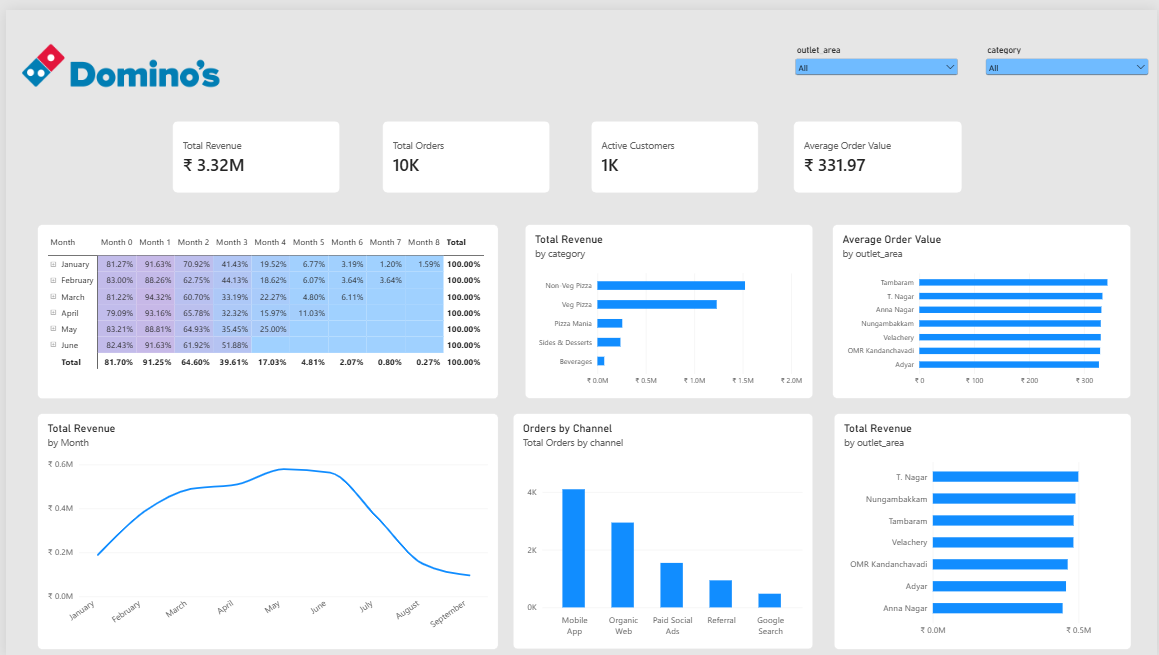

This screenshot's page, from the dashboard's own definition file:
{"tool":"powerbi","page":{"name":"Page 1","canvas":[1920,1080],"ordinal":0},"visuals":[{"type":"cardVisual","fields":{"Data":["raw_pos_transactions.Total Revenue"]},"box":[277.5,185,279.5,120.5],"z":0},{"type":"cardVisual","fields":{"Data":["raw_pos_transactions.Total Orders"]},"box":[627.5,185,279.5,120.5],"z":1000},{"type":"cardVisual","fields":{"Data":["raw_pos_transactions.Average Order Value"]},"box":[1312.5,185,281.8,120.5],"z":2000},{"type":"cardVisual","fields":{"Data":["raw_pos_transactions.Active Customers"]},"box":[975,185,279.5,120.5],"z":3000},{"type":"pivotTable","fields":{"Columns":["raw_pos_transactions.Retention Month"],"Rows":["dim_customers.signup_date.Variation.Date Hierarchy.Month","dim_customers.signup_date.Variation.Date Hierarchy.Day"],"Values":["raw_pos_transactions.Retention Rate"]},"box":[52.5,357.5,768.2,290.9],"z":4000},{"type":"slicer","fields":{"Values":["dim_outlets.outlet_area"]},"box":[1310,57.5,281.8,72.7],"z":5000},{"type":"slicer","fields":{"Values":["raw_pos_transactions.category"]},"box":[1627.5,57.5,281.8,152.3],"z":6000},{"type":"lineChart","fields":{"Category":["raw_pos_transactions.order_date.Variation.Date Hierarchy.Month"],"Y":["raw_pos_transactions.Total Revenue"]},"box":[52.5,672.5,768.2,393.2],"z":7000},{"type":"clusteredBarChart","fields":{"Category":["raw_pos_transactions.category"],"Y":["raw_pos_transactions.Total Revenue"]},"box":[865,357.5,480,290],"z":8000},{"type":"clusteredBarChart","fields":{"Category":["raw_pos_transactions.outlet_area"],"Y":["raw_pos_transactions.Total Revenue"]},"box":[1380,672.5,495.5,393.2],"z":9000},{"type":"clusteredBarChart","fields":{"Category":["dim_outlets.outlet_area"],"Y":["raw_pos_transactions.Average Order Value"]},"box":[1377.5,357.5,497.5,290],"z":10000},{"type":"clusteredColumnChart","title":"Orders by Channel","fields":{"Category":["dim_customers.channel"],"Y":["raw_pos_transactions.Total Orders"]},"box":[845,672.5,500,392.5],"z":11000},{"type":"image","box":[0,0,382.5,185],"z":12000}]}

Visuals, with their boxes in screenshot pixels (x1, y1, x2, y2), scaled from the page's 1920x1080 canvas onto the 1159x655 screenshot:
cardVisual - raw_pos_transactions.Total Revenue: [x1=168, y1=112, x2=336, y2=185]
cardVisual - raw_pos_transactions.Total Orders: [x1=379, y1=112, x2=548, y2=185]
cardVisual - raw_pos_transactions.Average Order Value: [x1=792, y1=112, x2=962, y2=185]
cardVisual - raw_pos_transactions.Active Customers: [x1=589, y1=112, x2=757, y2=185]
pivotTable - raw_pos_transactions.Retention Month x dim_customers.signup_date.Variation.Date Hierarchy.Month: [x1=32, y1=217, x2=495, y2=393]
slicer - dim_outlets.outlet_area: [x1=791, y1=35, x2=961, y2=79]
slicer - raw_pos_transactions.category: [x1=982, y1=35, x2=1153, y2=127]
lineChart - raw_pos_transactions.order_date.Variation.Date Hierarchy.Month x raw_pos_transactions.Total Revenue: [x1=32, y1=408, x2=495, y2=646]
clusteredBarChart - raw_pos_transactions.category x raw_pos_transactions.Total Revenue: [x1=522, y1=217, x2=812, y2=393]
clusteredBarChart - raw_pos_transactions.outlet_area x raw_pos_transactions.Total Revenue: [x1=833, y1=408, x2=1132, y2=646]
clusteredBarChart - dim_outlets.outlet_area x raw_pos_transactions.Average Order Value: [x1=832, y1=217, x2=1132, y2=393]
"Orders by Channel" clusteredColumnChart: [x1=510, y1=408, x2=812, y2=646]
image: [x1=0, y1=0, x2=231, y2=112]
